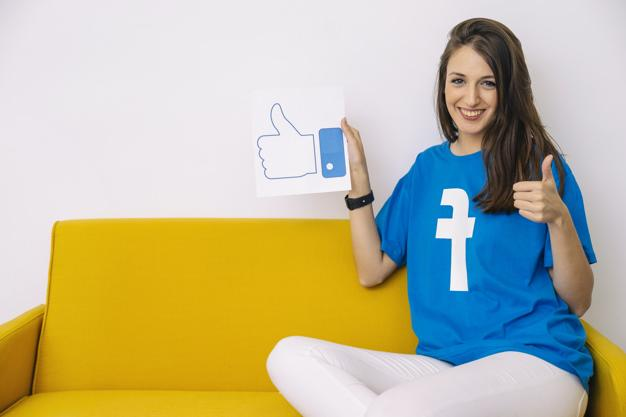thumbsup: (512, 154, 554, 222)
